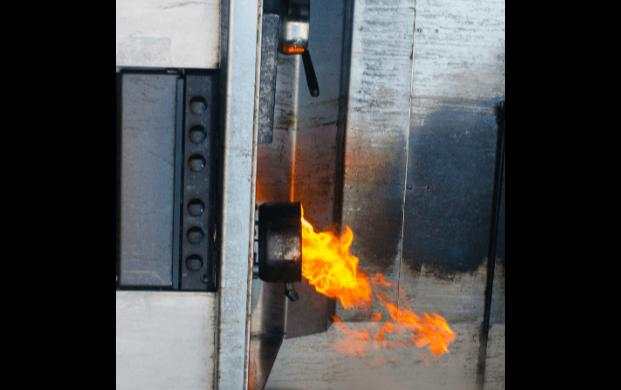fire: (233, 184, 466, 380)
